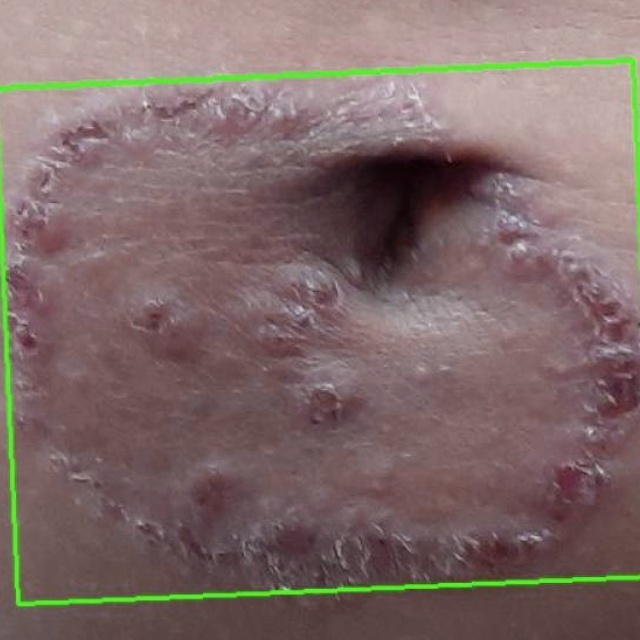Tinea Corporis: (0, 0, 639, 639), (0, 60, 639, 605)
